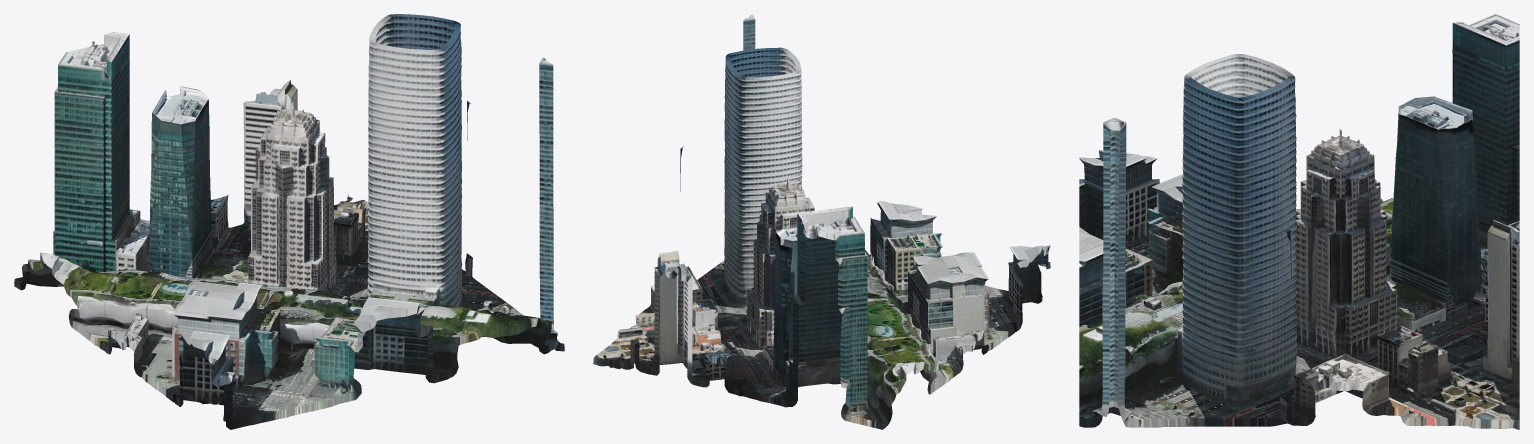
The model's file is z17-20972-50655-h0-yup-uvflip-v3-world.glb.
3 views of the same model, side by side, from view 1: azimuth 30°, elevation 25°; view 2: azimuth 150°, elevation 25°; view 3: azimuth 270°, elevation 25° (orthographic). The views are drawn at different scales.
Size of the model in its own units: 242 by 190 by 243.
Materials: 1 (1 with a texture image).
